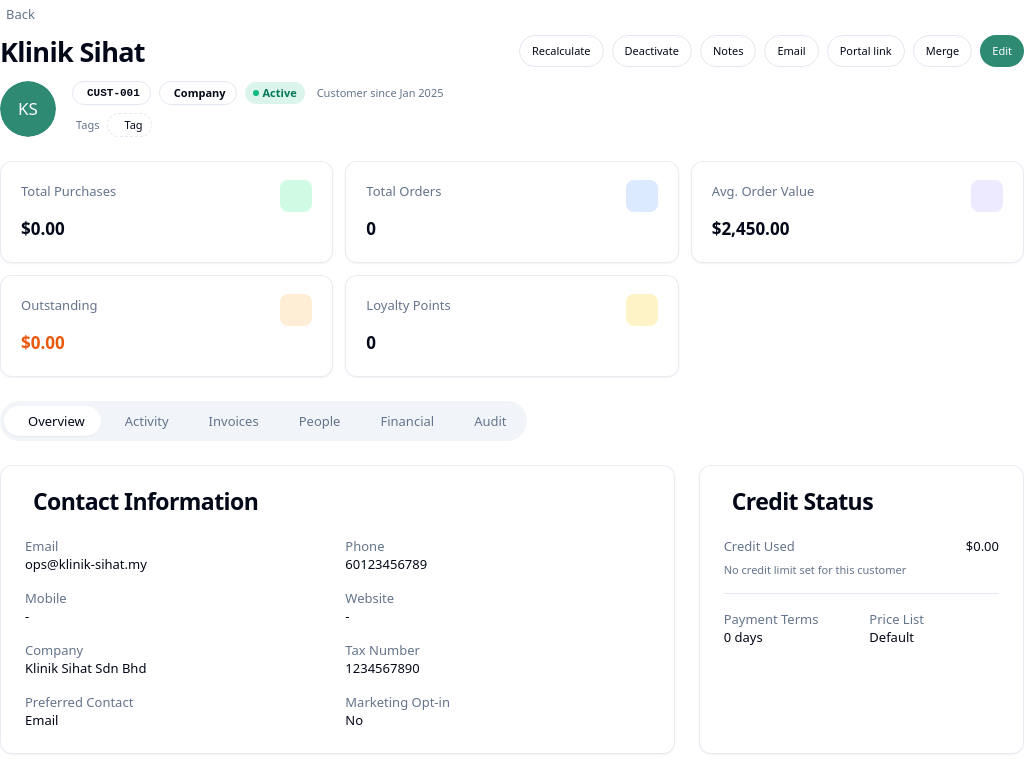
Test: CustomerDetailsPage edit dialog (#437 CU9) › edits through the same shared CustomerForm the list uses
The image size is (1024, 768).
Click the button "Edit" at (1002, 51), box [980,35,1023,67]
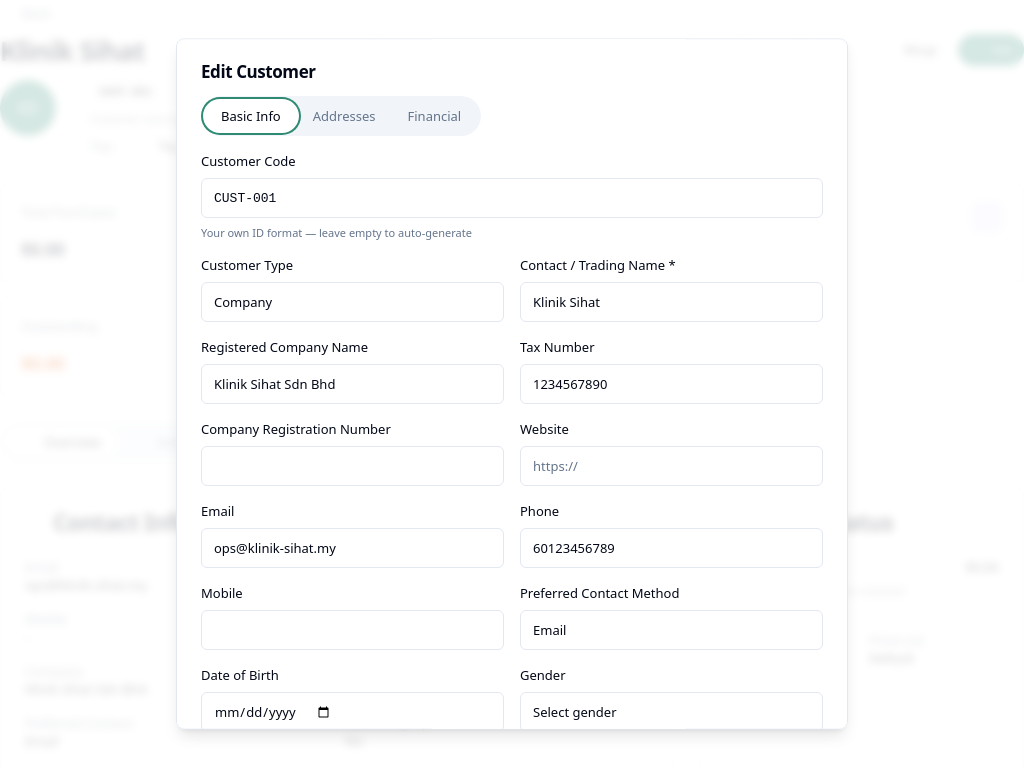
Expected: the element with test id "customer-form" is shown, [201,96,823,730]
Expected: the field labelled "Customer Code" is shown, [201,178,823,218]
Expected: the field labelled "Contact / Trading Name *" is shown, [520,282,823,322]
